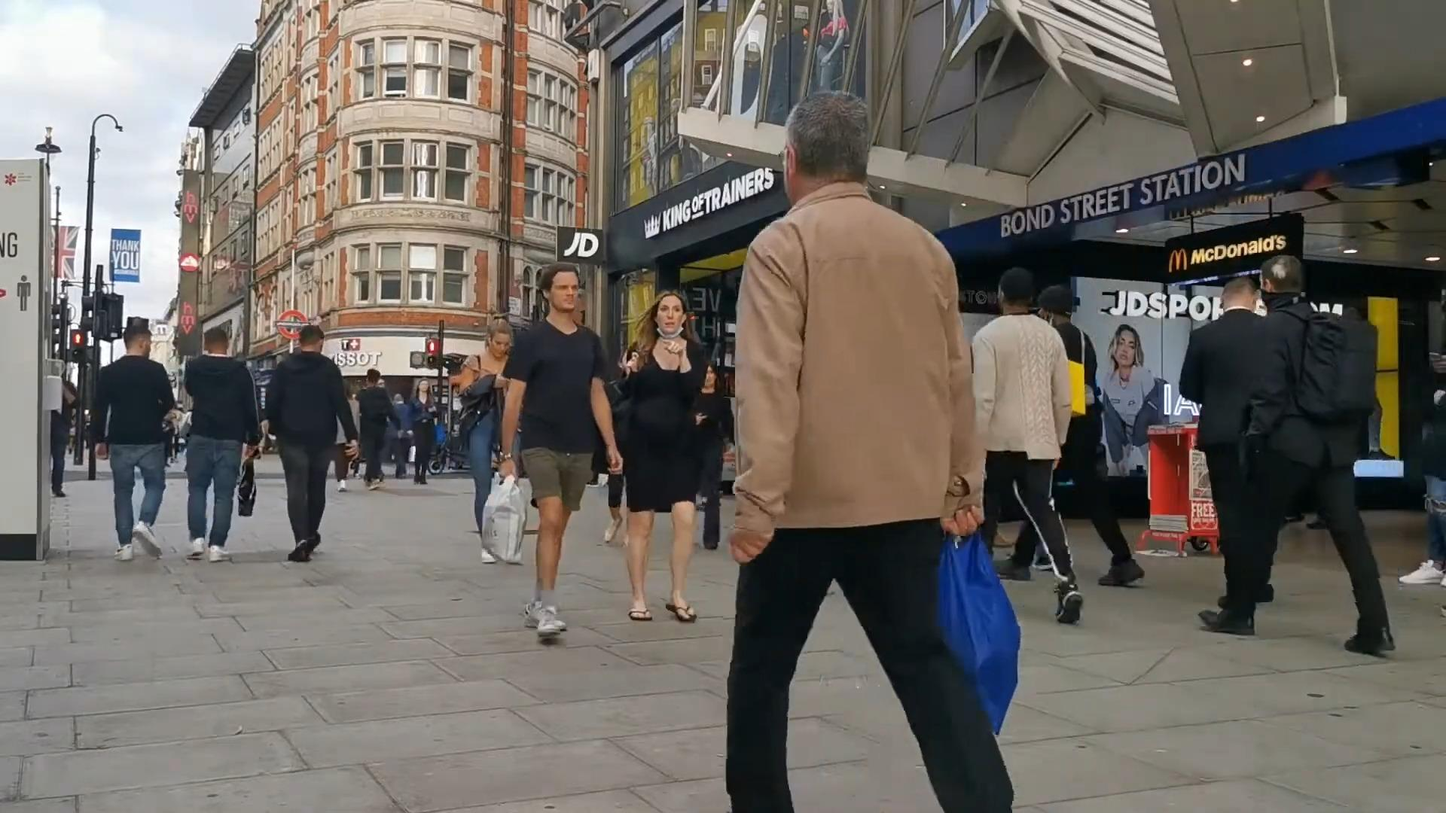no-helmet: (778, 88, 869, 207), (1260, 254, 1302, 308), (539, 264, 581, 313), (648, 289, 689, 339), (998, 267, 1034, 314), (1037, 285, 1073, 325), (1220, 277, 1259, 312), (487, 313, 513, 358), (124, 325, 152, 359), (299, 325, 325, 353), (204, 327, 229, 354)
